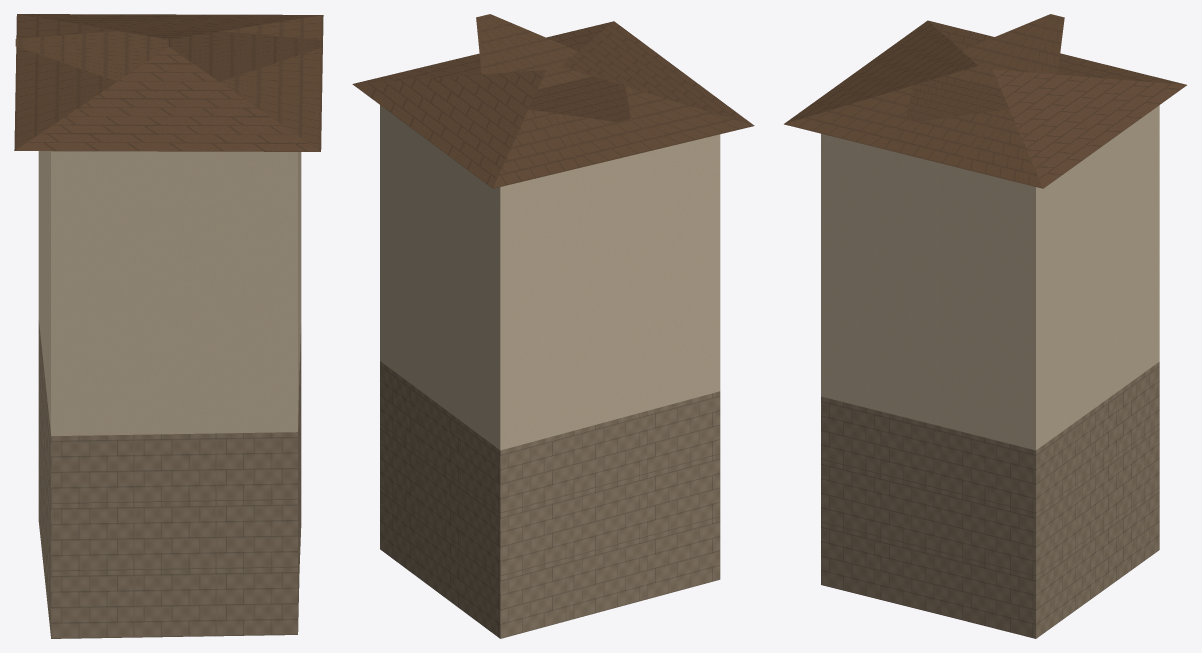
Rendered from bld_c32_-24_536.gltf.
3 renders of one model, left to right at view 1: azimuth 30°, elevation 25°; view 2: azimuth 150°, elevation 25°; view 3: azimuth 270°, elevation 25°, orthographic. The views are drawn at different scales.
Visible parts, largest first — view 1: bld_c32_-24_536; view 2: bld_c32_-24_536; view 3: bld_c32_-24_536.
Part boxes in pixels (<box>): bld_c32_-24_536: <box>14,14,323,638</box>; bld_c32_-24_536: <box>352,14,754,638</box>; bld_c32_-24_536: <box>784,14,1186,638</box>.
Size of the model in its own units: 9.77 by 13.5 by 9.91.
Materials: 3 (3 with a texture image).
